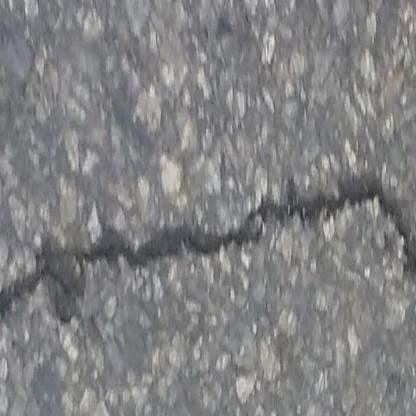Cracks: (0, 177, 416, 332)
